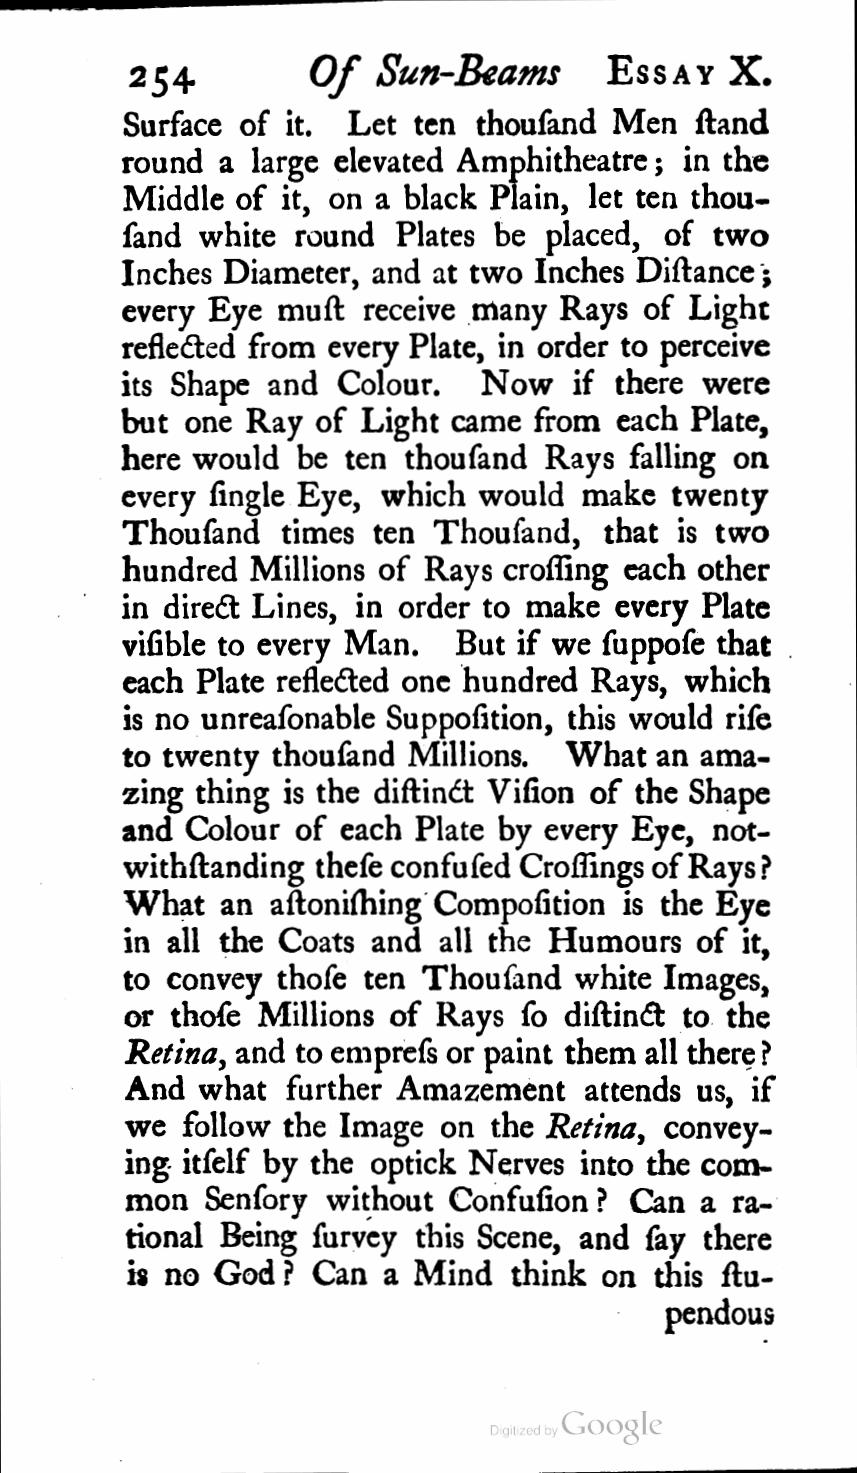catchword: (650, 1298, 778, 1338)
header: (300, 46, 776, 104)
page_num: (120, 58, 206, 102)
top_p: (120, 110, 774, 1294)
